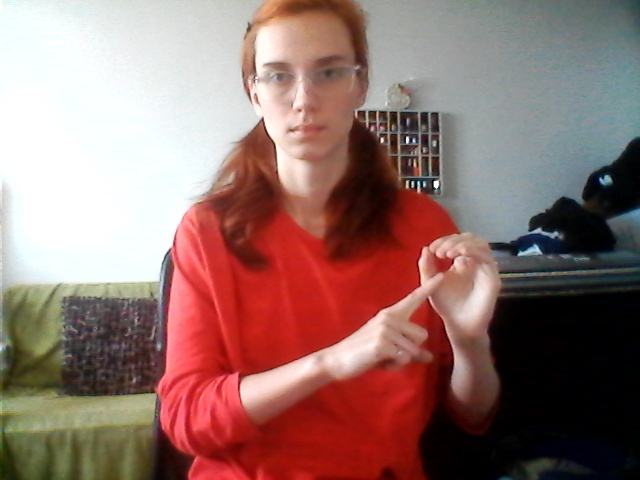q: (344, 228, 510, 378)
